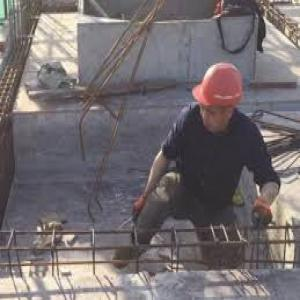red: (192, 62, 244, 133)
